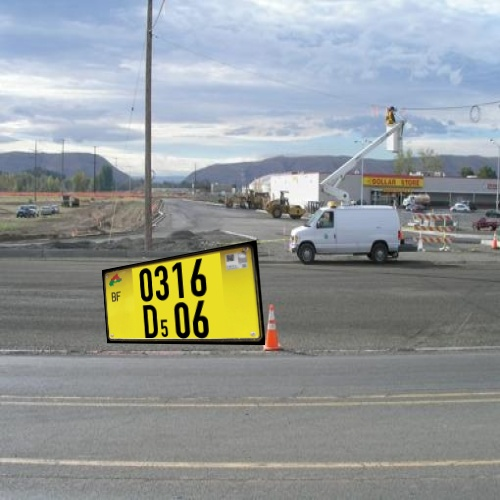plate: (84, 232, 281, 350)
